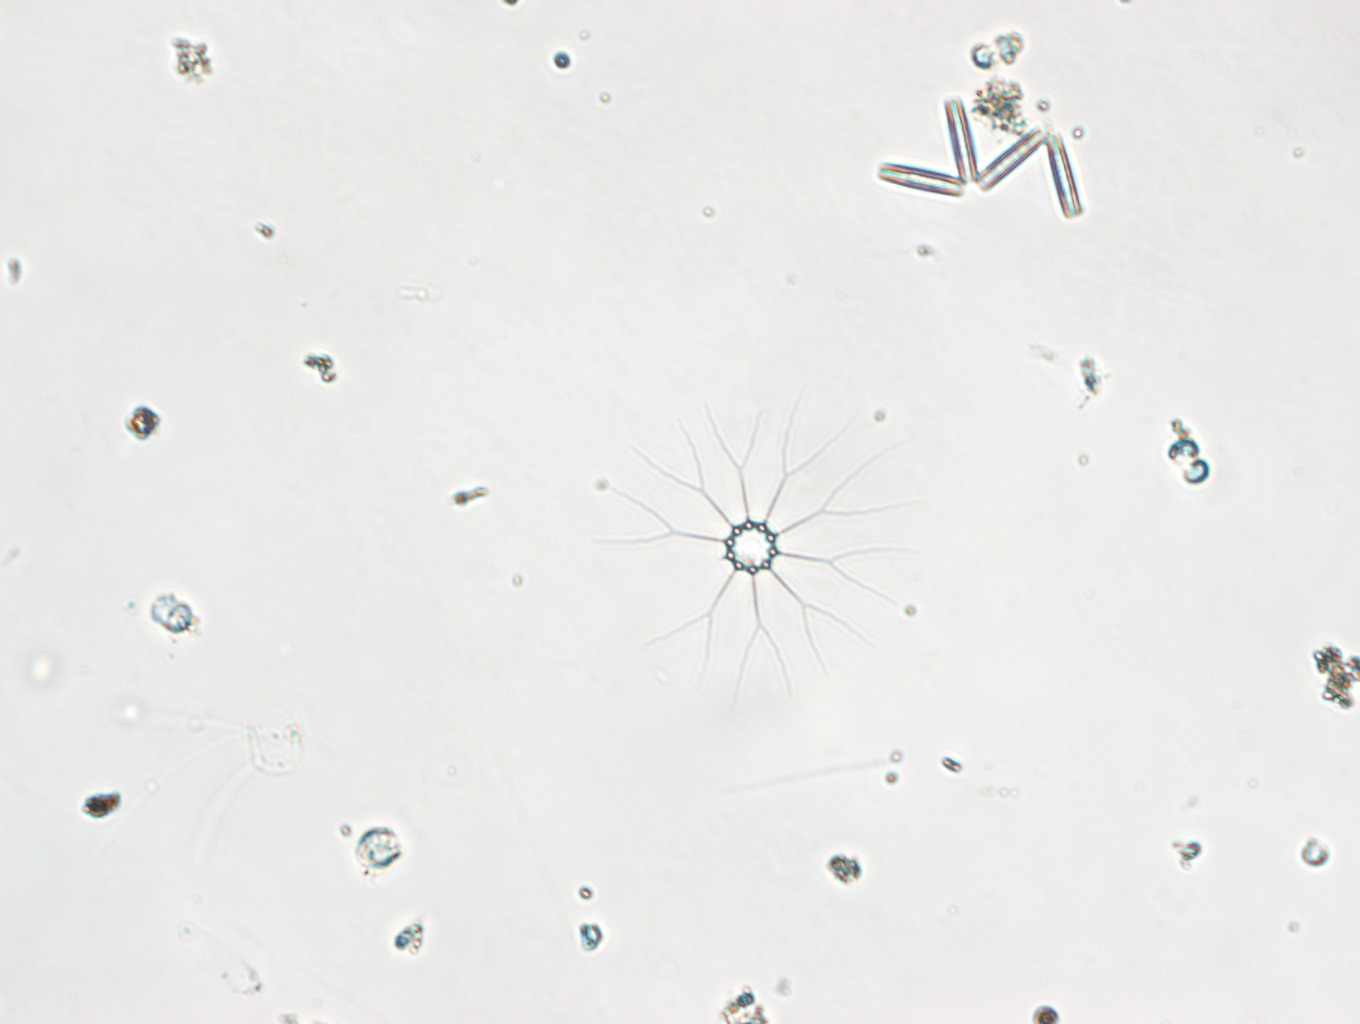bacteriastrum: (605, 387, 919, 703)
thalassionema nitzschioides: (869, 93, 1106, 224)
